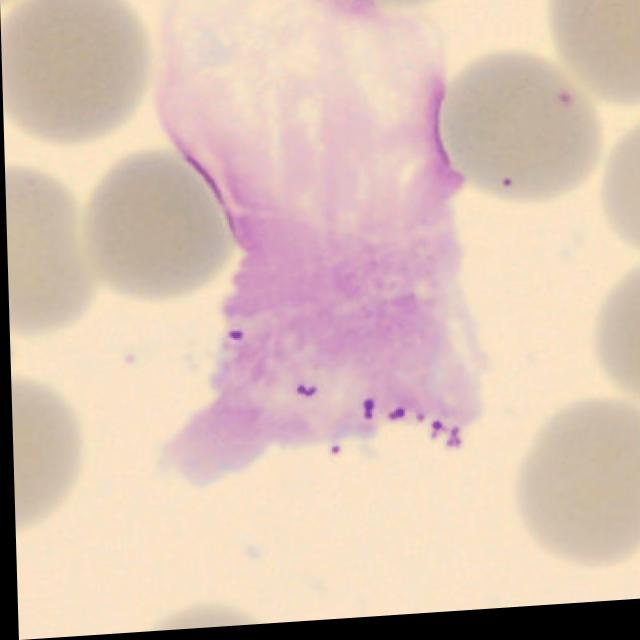Artefato: (154, 0, 483, 488)
